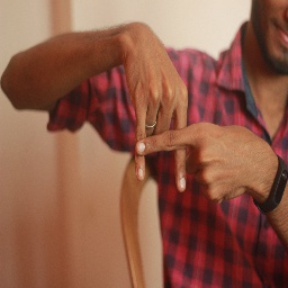H: (118, 78, 217, 195)
